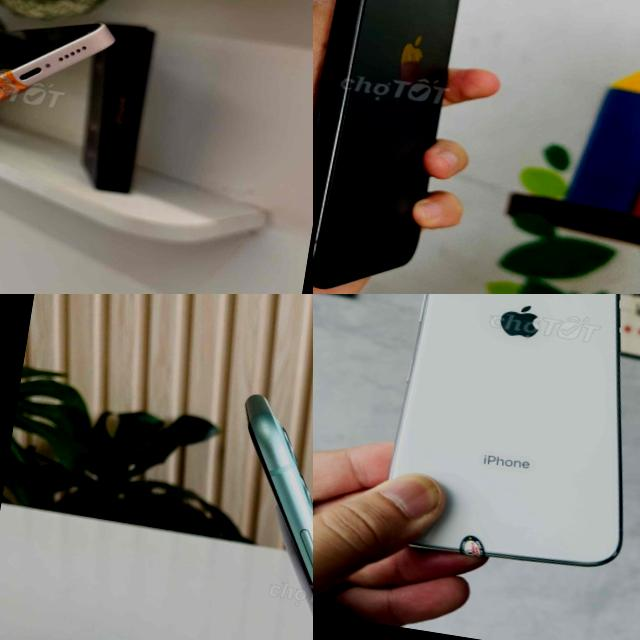gen_11: (245, 395, 313, 609)
gen_12_13: (0, 0, 137, 181)
gen_15: (313, 0, 523, 294)
gen_x_xs: (361, 294, 640, 595)
